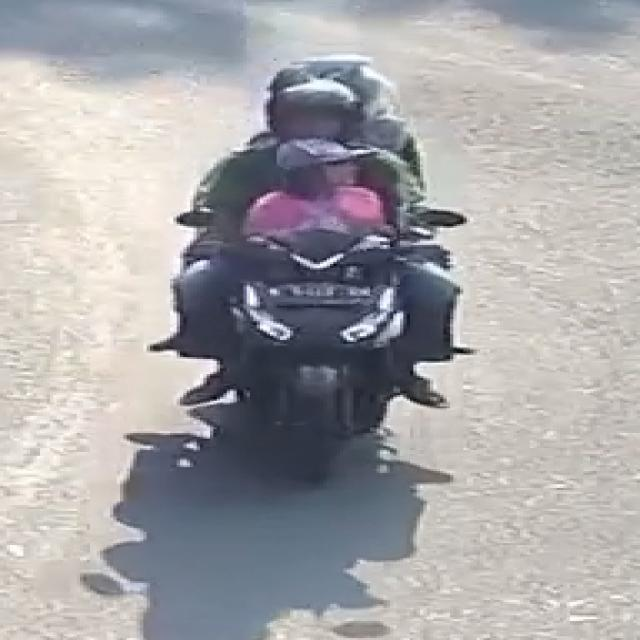helm: (254, 76, 374, 155), (260, 53, 397, 121)
motor: (148, 42, 492, 490)
spion: (159, 203, 248, 240), (393, 203, 477, 240)
